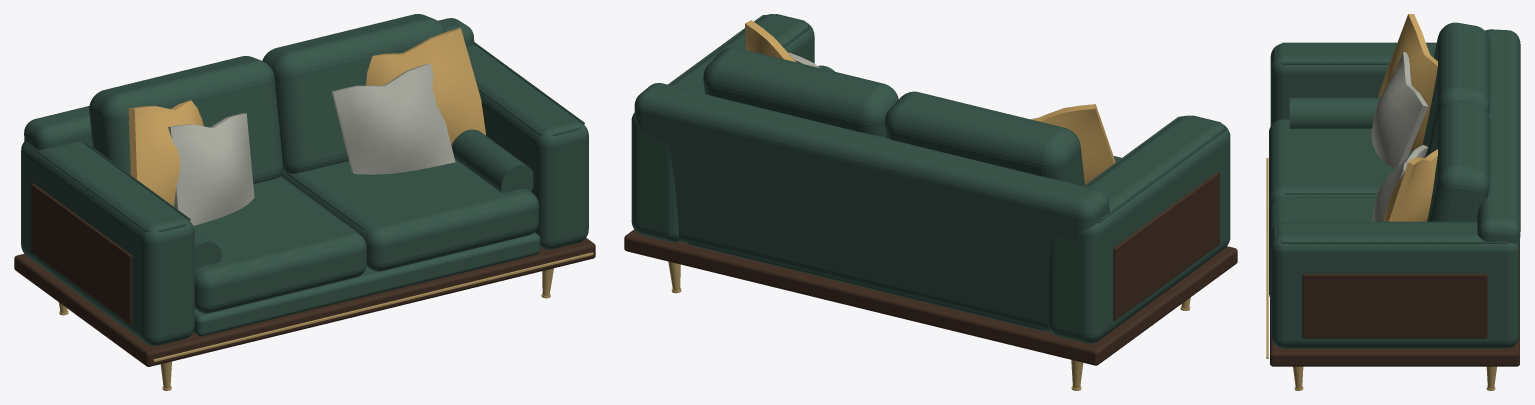
The model's file is milano-moss-2.glb.
3 renders of one model, left to right at view 1: azimuth 30°, elevation 25°; view 2: azimuth 150°, elevation 25°; view 3: azimuth 270°, elevation 25°, orthographic. The views are drawn at different scales.
Size of the model in its own units: 1.7 by 0.8344 by 0.8932.
